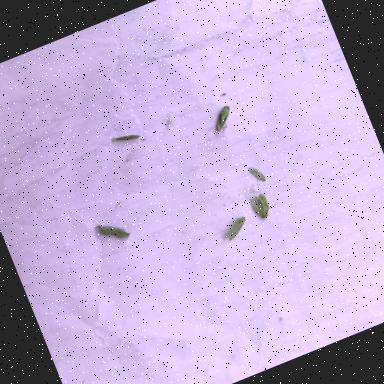pbw: (96, 215, 131, 247), (219, 214, 253, 242), (208, 104, 237, 132), (248, 192, 272, 222), (112, 128, 142, 148), (247, 162, 269, 186)
